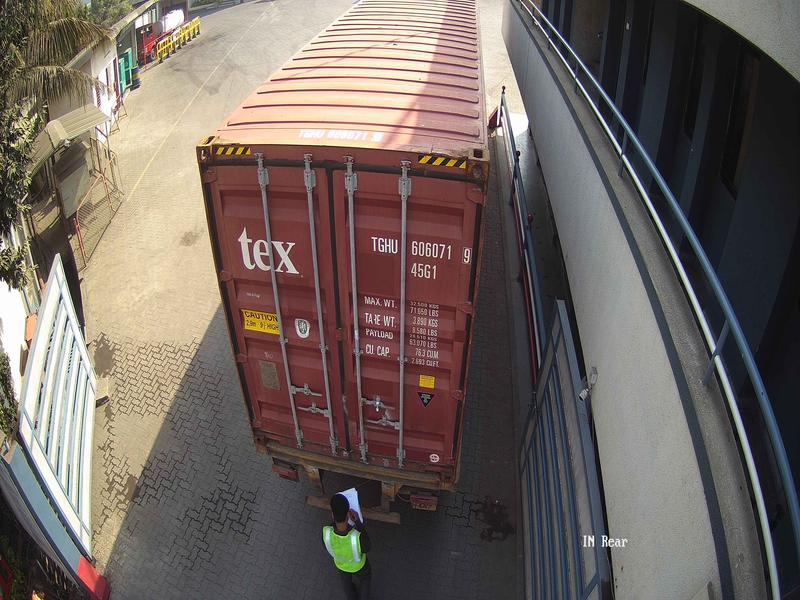container: (196, 130, 501, 487)
